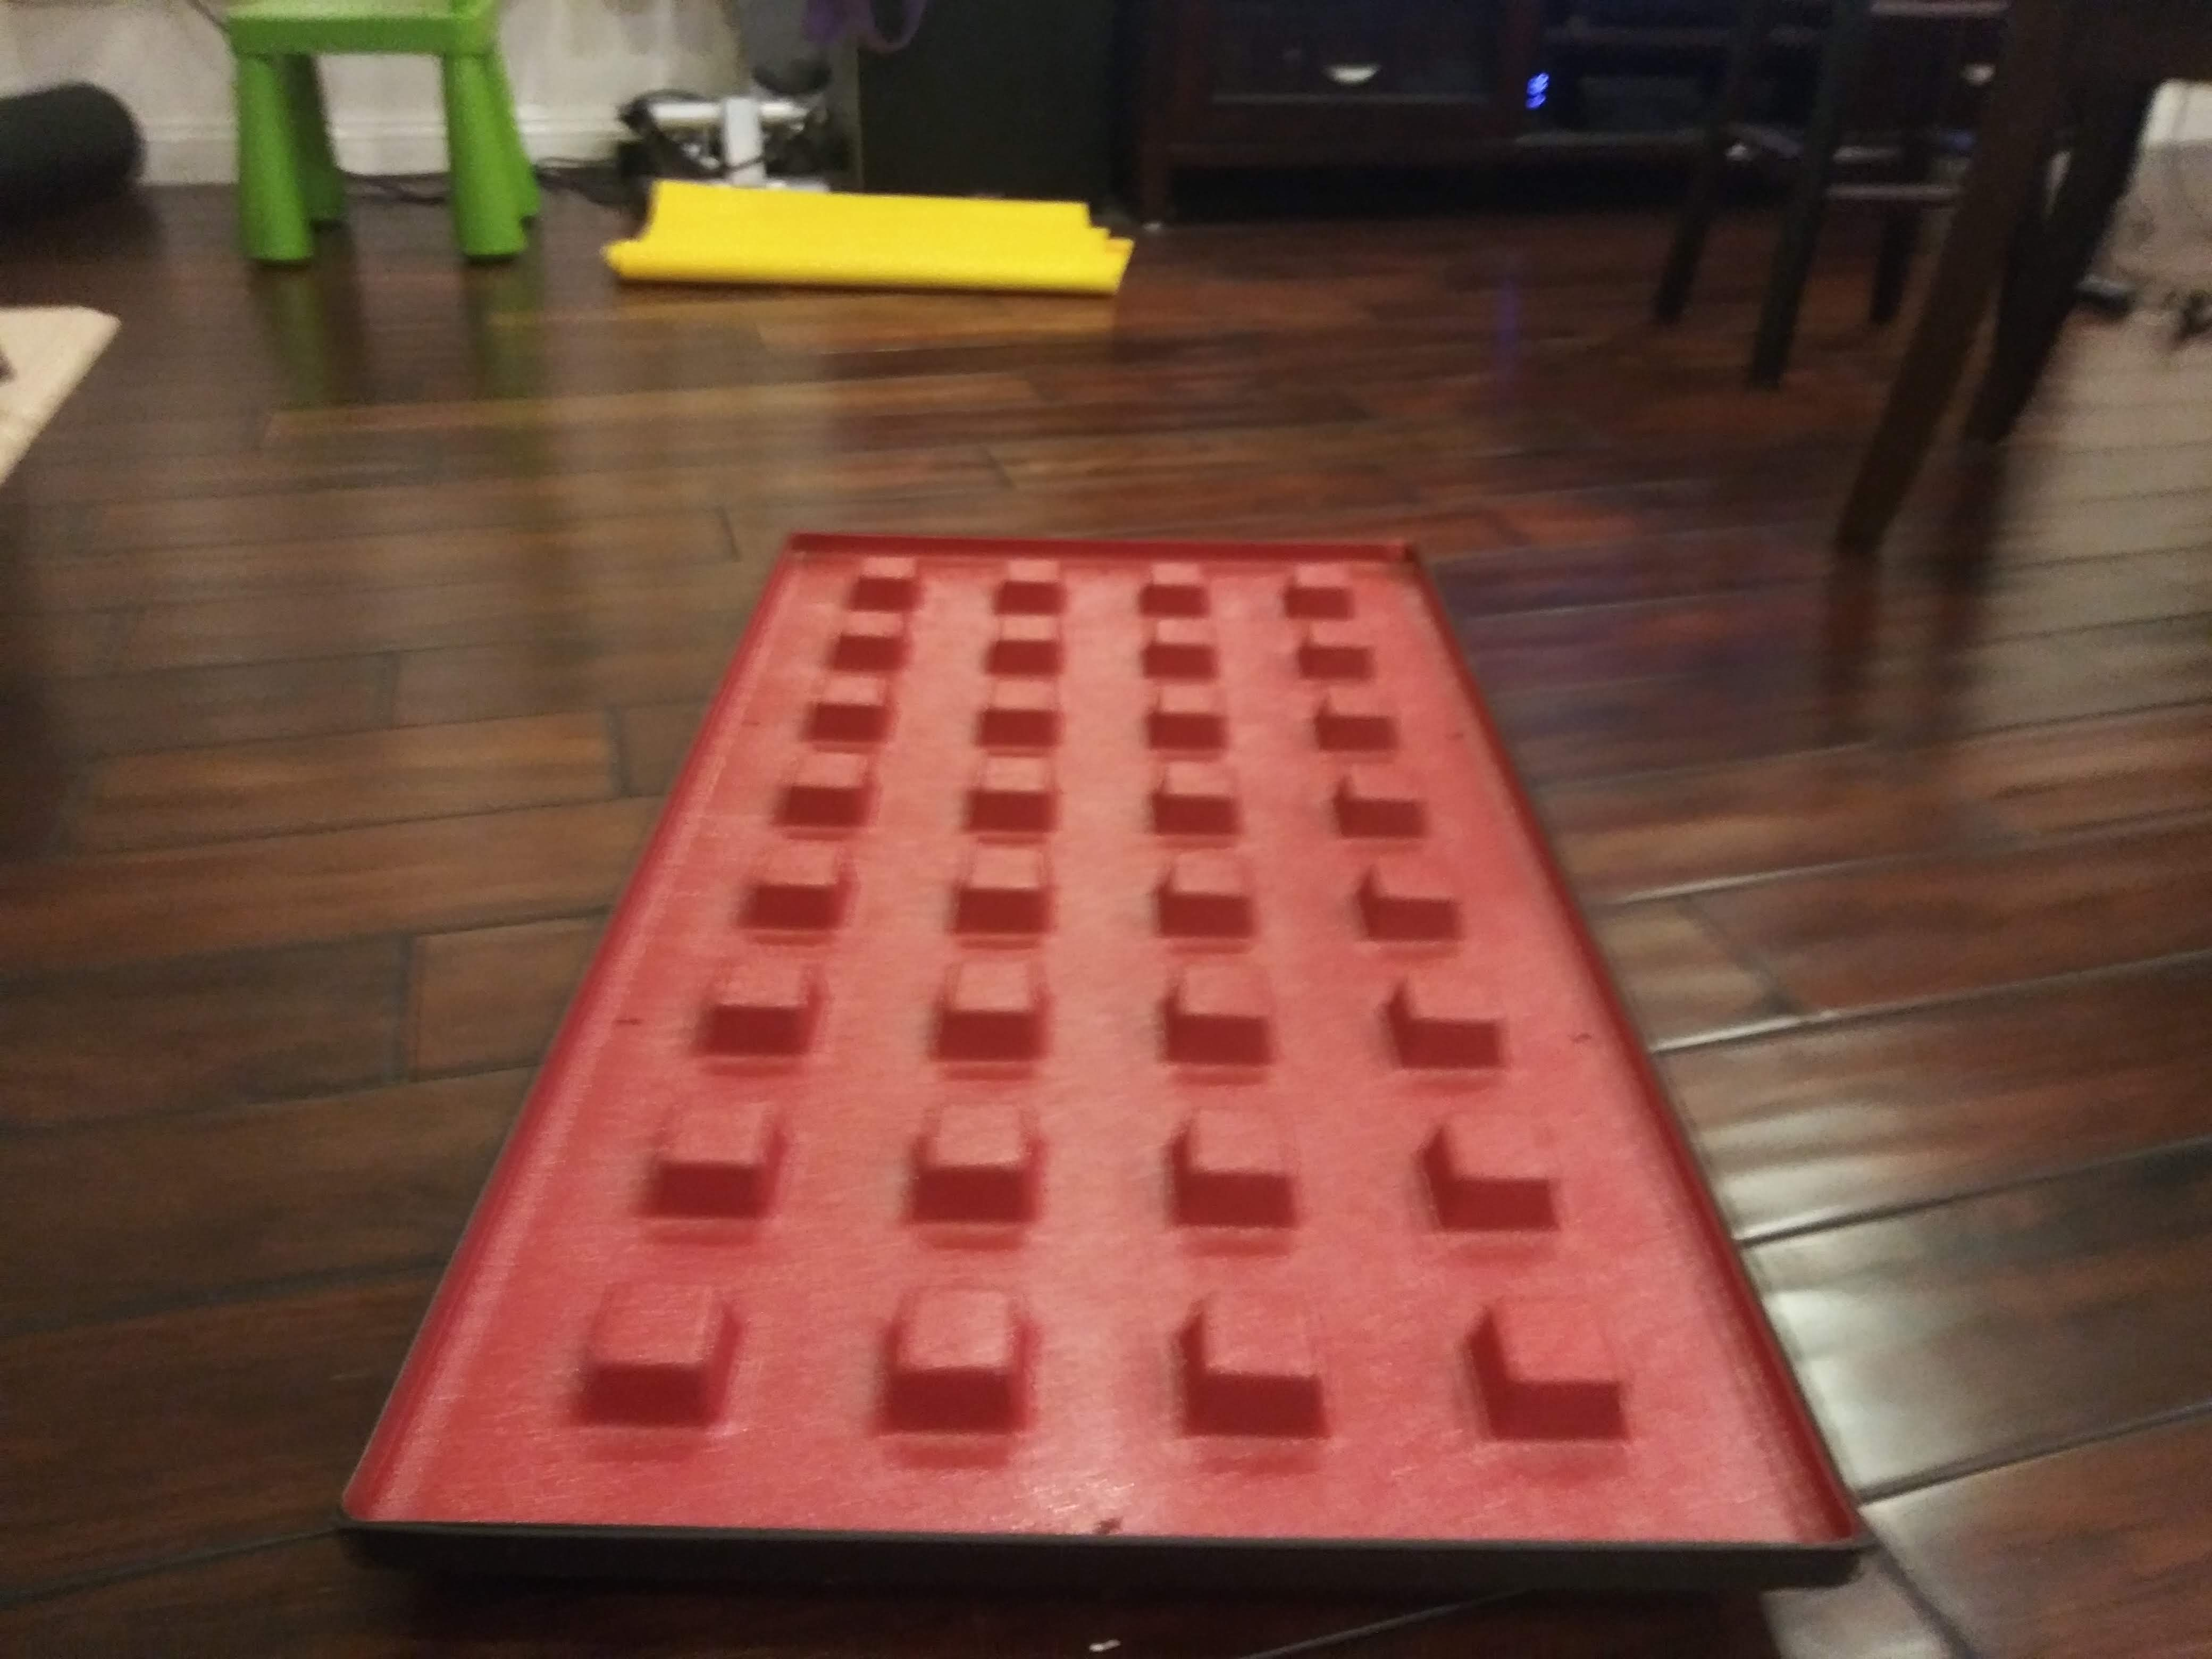red foundation: (319, 512, 1895, 1601)
